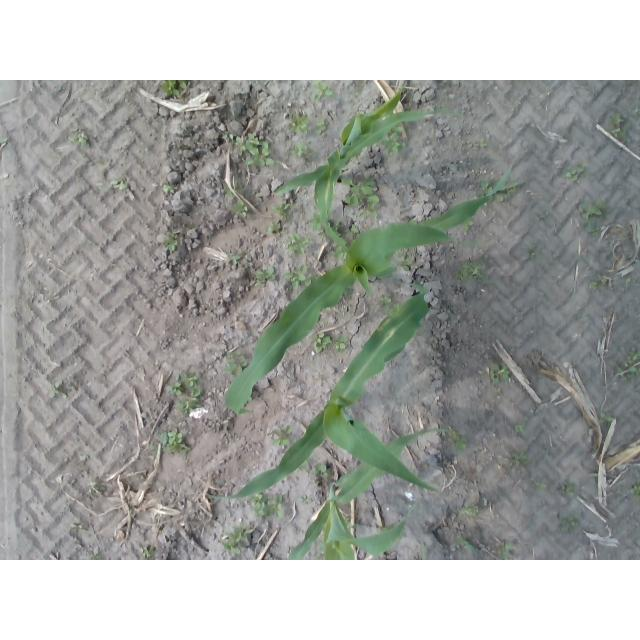Maize: (223, 159, 515, 414), (206, 283, 447, 499), (270, 89, 460, 256), (287, 428, 448, 560)
Weeds: (223, 526, 258, 556), (342, 178, 379, 206), (580, 201, 609, 231), (246, 141, 274, 167), (283, 265, 307, 287), (177, 394, 202, 415), (223, 352, 246, 372), (450, 538, 475, 555), (465, 262, 487, 281), (169, 428, 186, 452), (290, 114, 310, 134), (288, 232, 308, 252), (273, 426, 291, 448), (268, 495, 285, 518), (255, 267, 276, 285), (313, 332, 331, 353), (163, 80, 186, 96), (383, 133, 401, 153), (49, 382, 67, 399), (167, 374, 182, 394), (315, 81, 334, 96), (561, 516, 577, 533), (181, 370, 197, 387), (163, 233, 178, 251), (291, 143, 310, 157), (359, 205, 378, 219), (565, 167, 584, 181), (495, 364, 510, 381), (314, 465, 329, 482), (397, 253, 412, 270), (233, 200, 247, 217), (610, 359, 623, 377), (628, 355, 640, 374), (70, 132, 89, 144), (486, 367, 499, 384), (252, 503, 266, 518), (609, 112, 623, 127), (459, 505, 479, 515), (502, 542, 514, 558), (140, 546, 156, 558), (272, 203, 288, 215), (90, 481, 107, 492), (622, 121, 631, 141), (311, 214, 321, 231), (452, 438, 464, 452), (515, 452, 528, 464), (269, 222, 281, 235), (379, 294, 391, 307), (299, 494, 313, 505), (249, 132, 260, 146), (235, 136, 245, 151), (562, 484, 574, 496), (228, 253, 241, 264), (317, 119, 327, 133), (631, 482, 640, 497), (90, 547, 101, 559), (337, 338, 348, 350), (150, 444, 159, 457), (163, 184, 177, 192), (161, 431, 168, 445), (115, 182, 126, 190), (459, 269, 467, 280), (612, 128, 621, 137), (351, 225, 360, 234), (539, 212, 549, 220), (463, 221, 473, 229), (495, 194, 504, 202), (600, 413, 609, 421), (535, 482, 547, 488), (255, 494, 264, 502), (71, 524, 84, 529), (0, 137, 8, 145), (481, 182, 488, 191), (516, 425, 525, 432), (589, 282, 597, 289), (449, 430, 457, 437), (479, 138, 485, 147), (633, 108, 640, 115), (495, 388, 501, 393), (531, 254, 536, 259), (627, 279, 630, 286)
